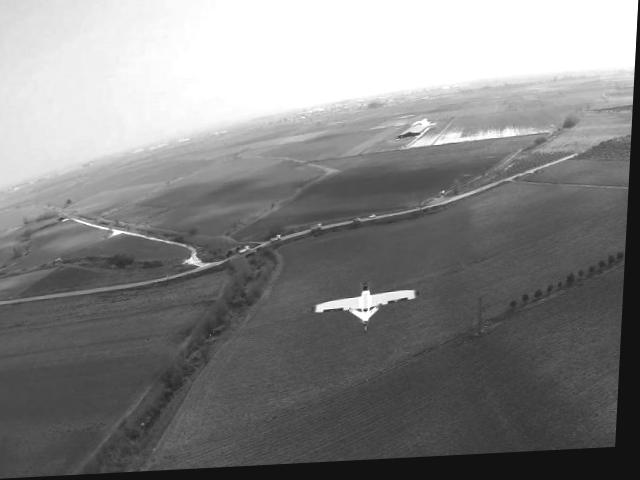hedef: (300, 275, 436, 340)
